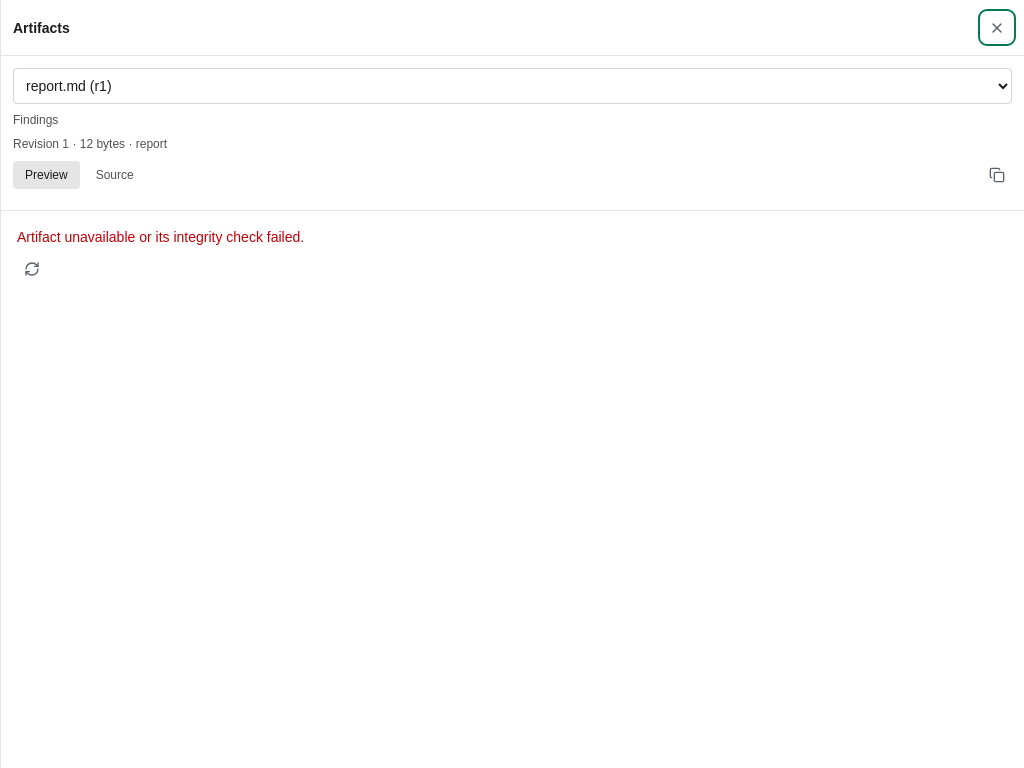
ArtifactWorkspace › shows missing content and can retry
Expected: the message "Artifact unavailable or its integrity check failed." is shown, x1=17 y1=229 x2=304 y2=284
What coordinates should you click on to do the following:
click the button named "Retry loading artifact"
I would click on:
 (32, 269)
Its box is x1=17 y1=255 x2=47 y2=284.
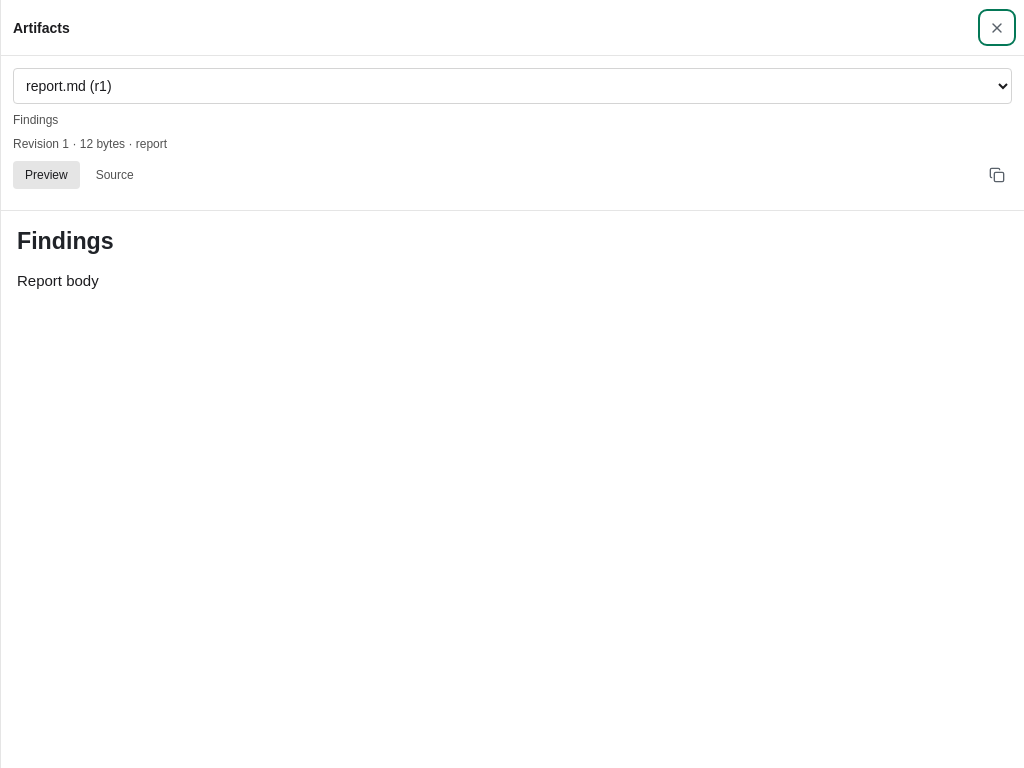
Expected: the heading "Findings" is shown, x1=17 y1=228 x2=114 y2=254
